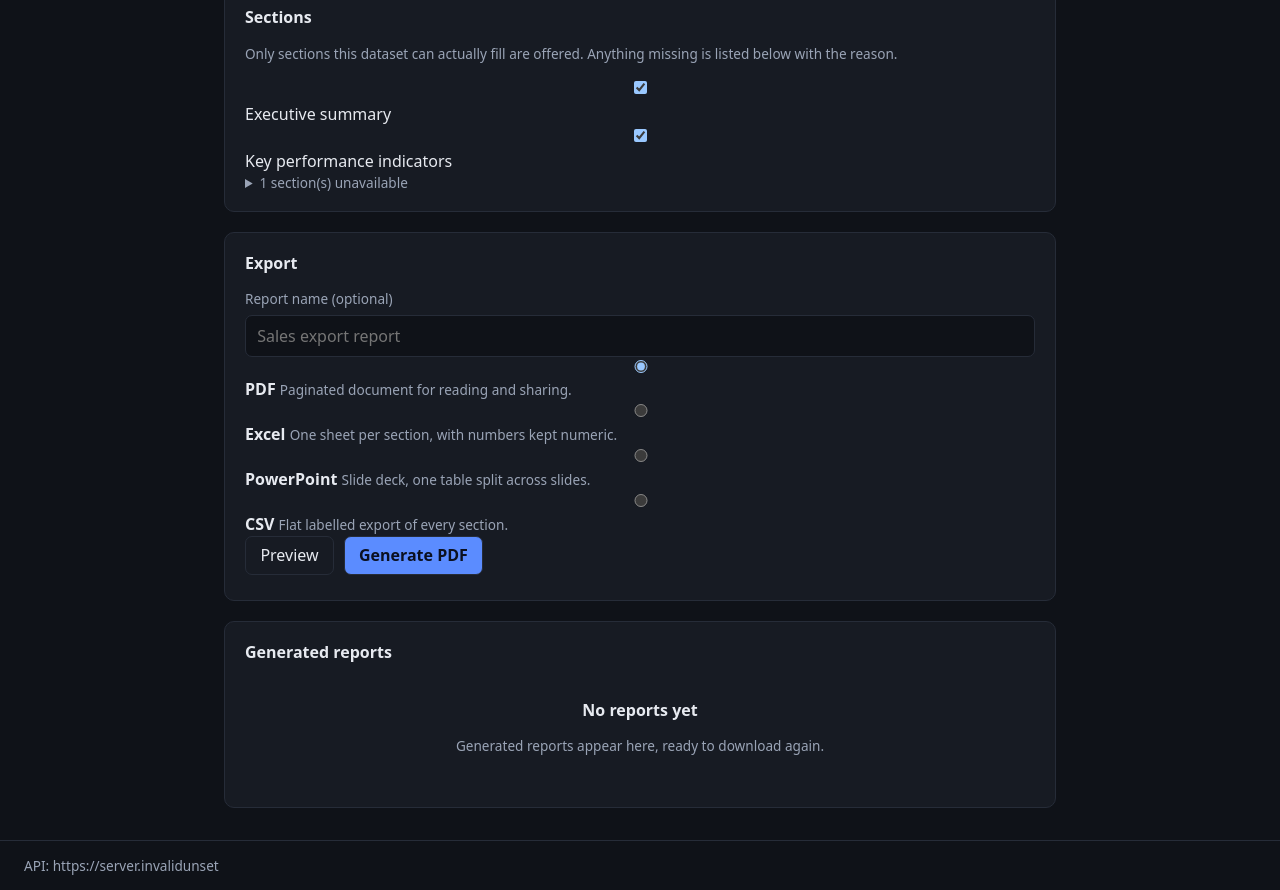
Test: DatasetReportsPage › lists sections that were left out of the report
(page scrolled)
Click the button "Preview".
click(290, 555)  # box [245,536,334,575]
(page scrolled)
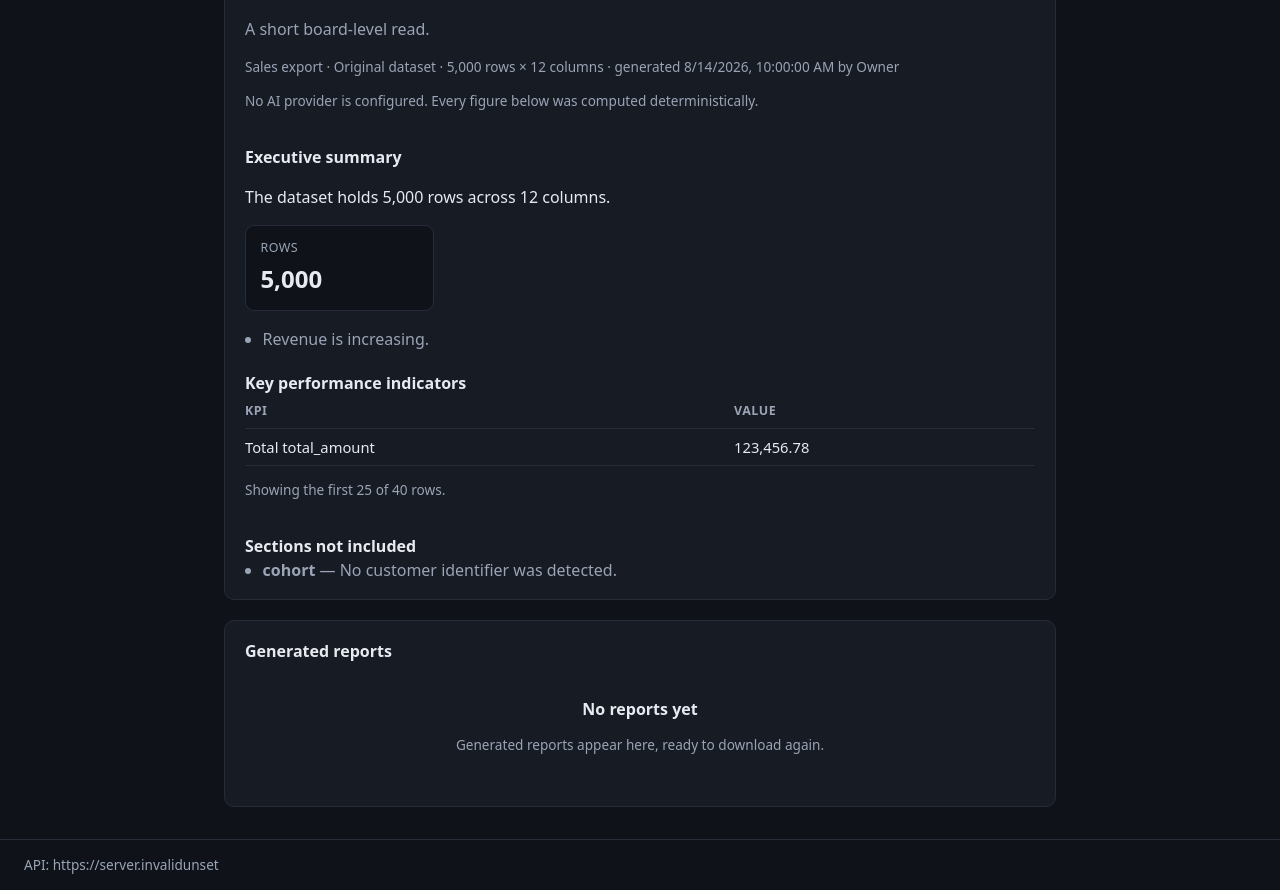
Result: the element with test id "report-skipped" shows "No customer identifier was detected." at [340,559,617,581]
